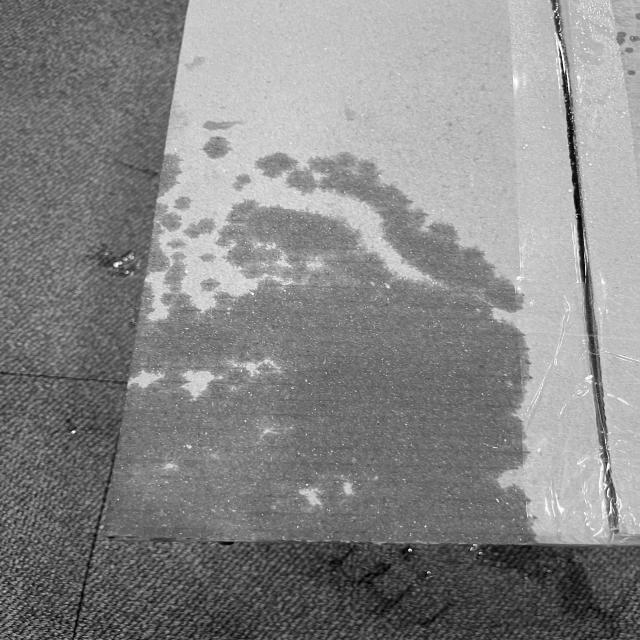wet: (96, 196, 541, 536)
